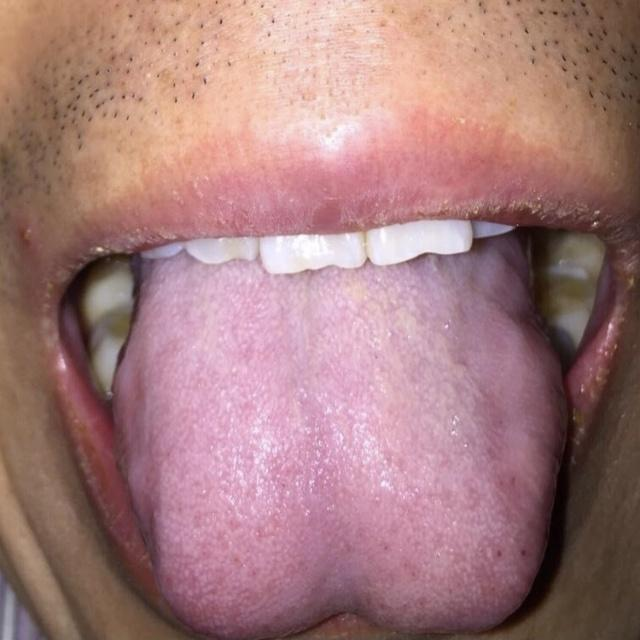baitaishe: (111, 274, 569, 639)
xinfeiao: (266, 591, 428, 640)
